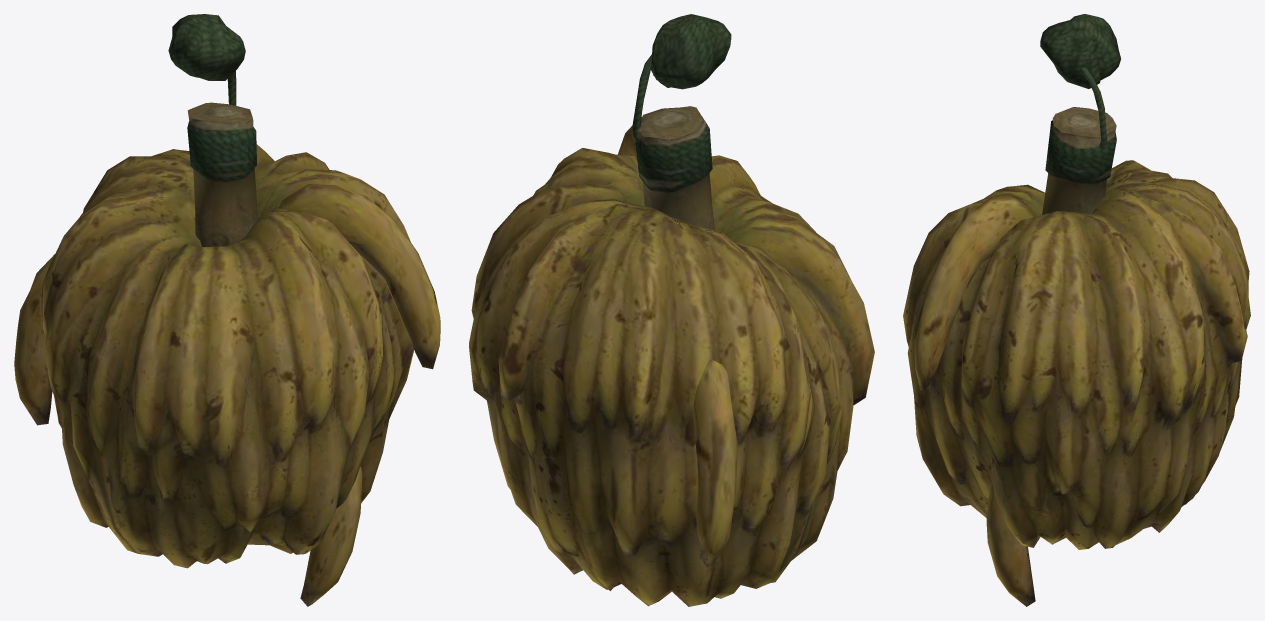
Rendered from banana_bunch_short.glb.
3 renders of one model, left to right at view 1: azimuth 30°, elevation 25°; view 2: azimuth 150°, elevation 25°; view 3: azimuth 270°, elevation 25°, orthographic. The views are drawn at different scales.
Visible parts, largest first — view 1: Banana_Bunch_Short; view 2: Banana_Bunch_Short; view 3: Banana_Bunch_Short.
Boxes of the visible parts, x1,y1,x2,y2 form: Banana_Bunch_Short: [14, 14, 440, 606]; Banana_Bunch_Short: [469, 14, 874, 606]; Banana_Bunch_Short: [903, 14, 1250, 606].
Bounding box in the file's own units: 0.6427 × 1.14 × 0.6493.
Materials: 1 (1 with a texture image).
